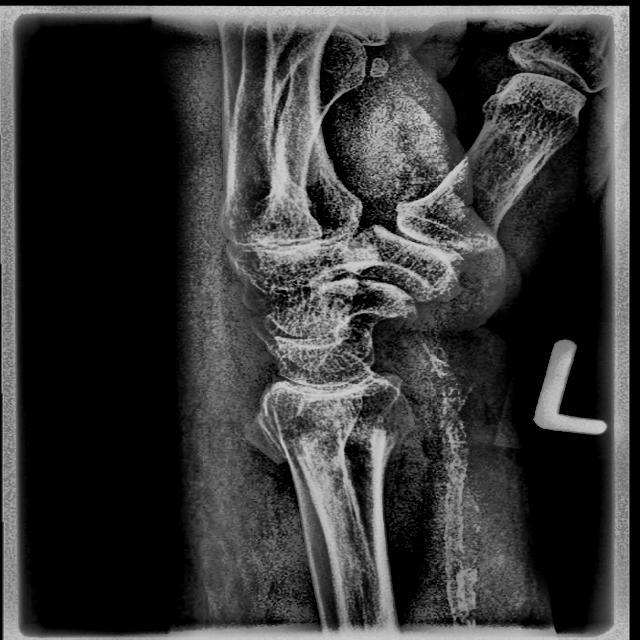fracture: (284, 410, 390, 474)
